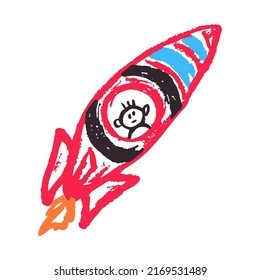roket: (37, 23, 223, 236)
